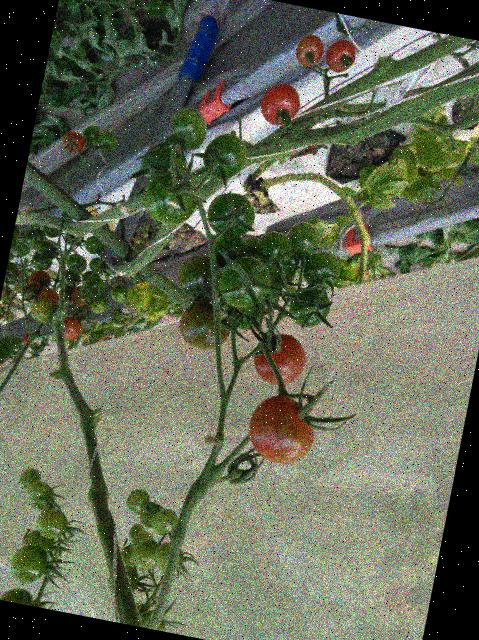l_fully_ripened: (250, 328, 310, 390), (256, 79, 303, 128), (322, 36, 358, 76), (59, 129, 86, 154)
l_green: (213, 251, 275, 313), (138, 168, 202, 228), (173, 250, 228, 306), (203, 189, 259, 241), (199, 129, 251, 184), (230, 269, 282, 321), (285, 283, 334, 332), (137, 142, 189, 188), (166, 103, 211, 154), (251, 228, 296, 276), (6, 540, 50, 586), (299, 247, 343, 292), (281, 219, 323, 264), (210, 231, 251, 272), (220, 301, 266, 334), (33, 504, 69, 542), (105, 562, 140, 601), (151, 539, 187, 575), (128, 536, 161, 572), (266, 258, 297, 292), (20, 526, 56, 554), (148, 506, 179, 538), (26, 481, 56, 513), (123, 486, 151, 517), (0, 584, 36, 606), (137, 606, 168, 631), (27, 298, 55, 325), (23, 478, 50, 505), (16, 465, 41, 492), (240, 235, 265, 262), (137, 501, 160, 529), (130, 528, 155, 553), (64, 252, 88, 275), (28, 250, 53, 272), (19, 282, 42, 305), (80, 123, 102, 147), (82, 234, 106, 256), (36, 238, 60, 260), (96, 129, 118, 152), (117, 544, 138, 567), (23, 227, 46, 247), (88, 294, 109, 315), (84, 274, 105, 294), (57, 283, 77, 304), (109, 283, 129, 303), (87, 256, 107, 275), (3, 261, 20, 283), (62, 231, 84, 248), (127, 522, 145, 542), (40, 225, 62, 239), (366, 251, 383, 269)
l_half_ripened: (242, 389, 320, 469), (175, 297, 234, 354), (292, 32, 326, 70), (58, 315, 84, 341), (26, 268, 52, 290), (36, 286, 60, 307), (70, 284, 91, 308)
